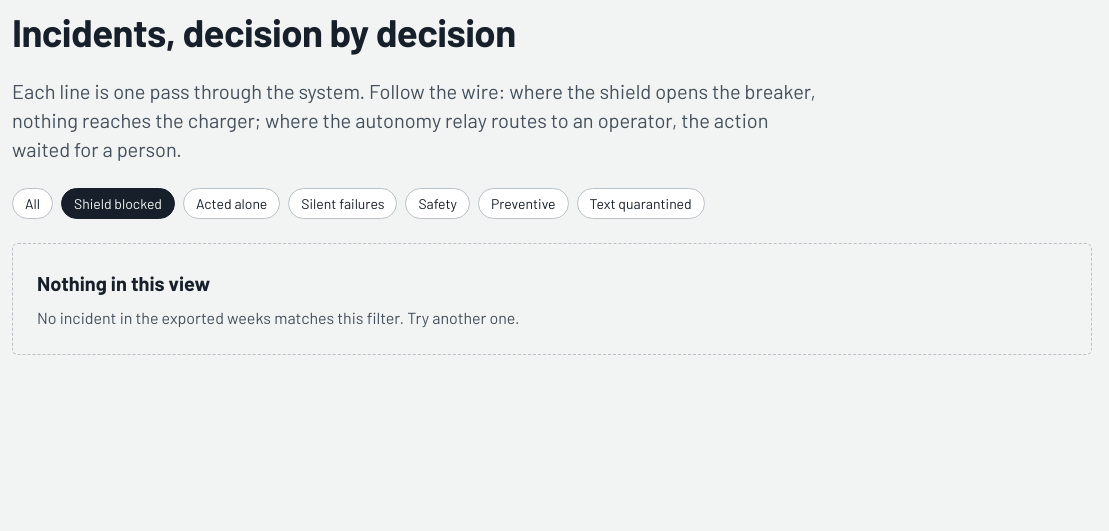
it: Incidents › says when a filter matches nothing
This screenshot has width=1109, height=531.
Check: the heading "Nothing in this view" is shown, box [37,268,210,298]
Click the button "Acted alone" at (232, 204), box [183,188,280,220]
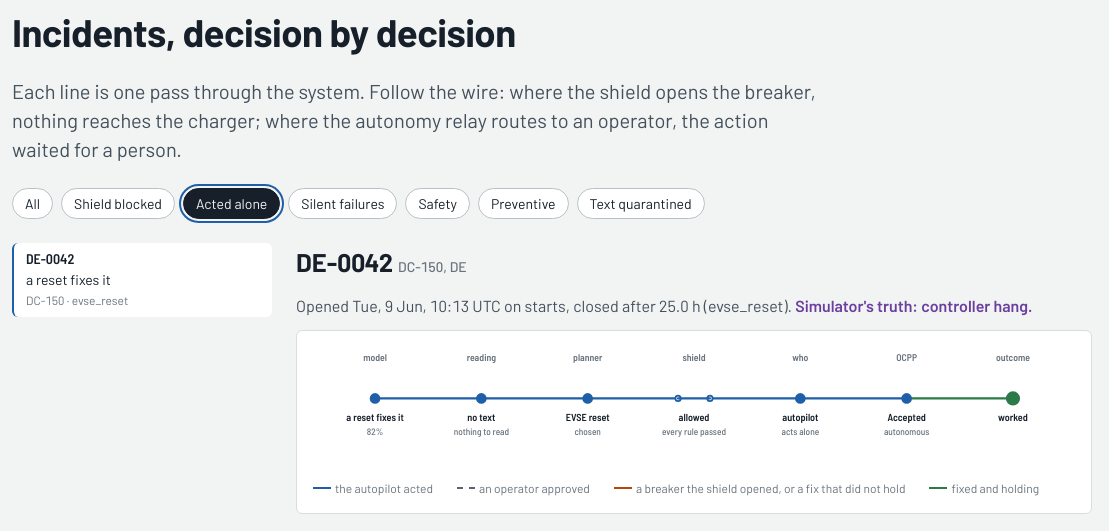
Check: the heading "DE-0042 DC-150, DE" is shown, box [296,246,467,278]
